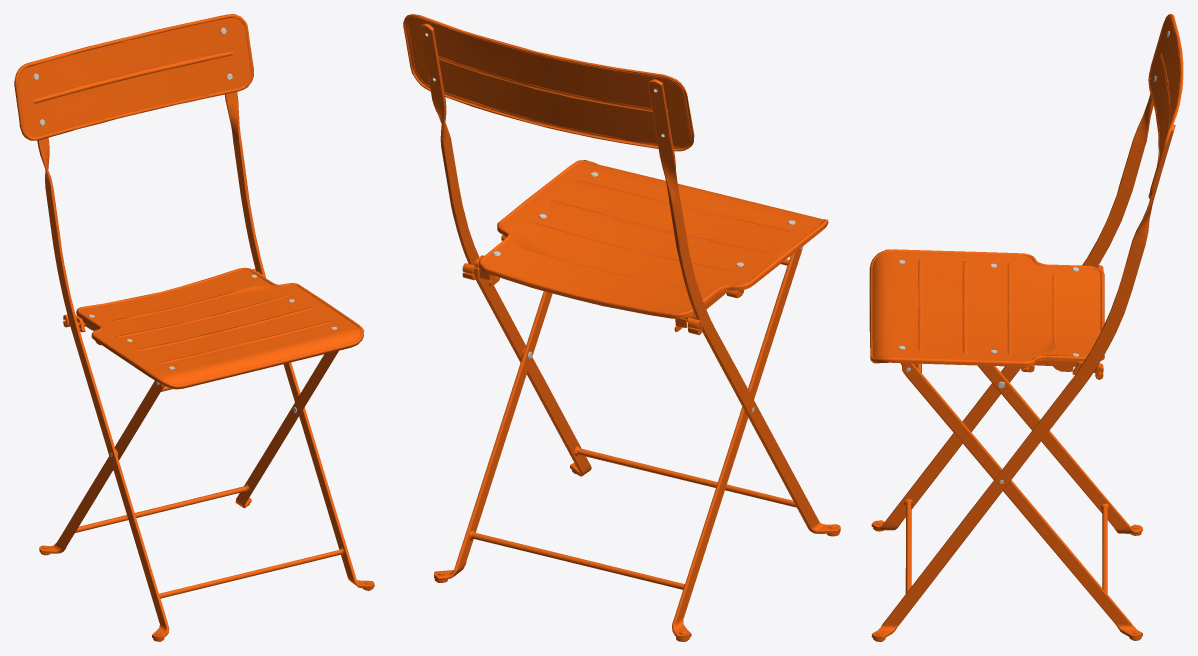
File: 19 - SUNDSÖ - 折疊椅, 亮橙色 戶外用 IKEA 線上購物.glb
The picture shows the model from 3 angles, left to right: view 1: azimuth 30°, elevation 25°; view 2: azimuth 150°, elevation 25°; view 3: azimuth 270°, elevation 25°; orthographic projection. The views are drawn at different scales.
Visible parts, largest first — view 1: ASY_ART_30575888_S01_NV01; view 2: ASY_ART_30575888_S01_NV01; view 3: ASY_ART_30575888_S01_NV01.
Boxes of the visible parts, bbox=[...] form: ASY_ART_30575888_S01_NV01: bbox=[14, 14, 374, 641]; ASY_ART_30575888_S01_NV01: bbox=[403, 14, 840, 641]; ASY_ART_30575888_S01_NV01: bbox=[869, 14, 1183, 641].
Bounding box in the file's own units: 0.4286 × 0.8371 × 0.4609.
Materials: 1 (1 with a texture image).
